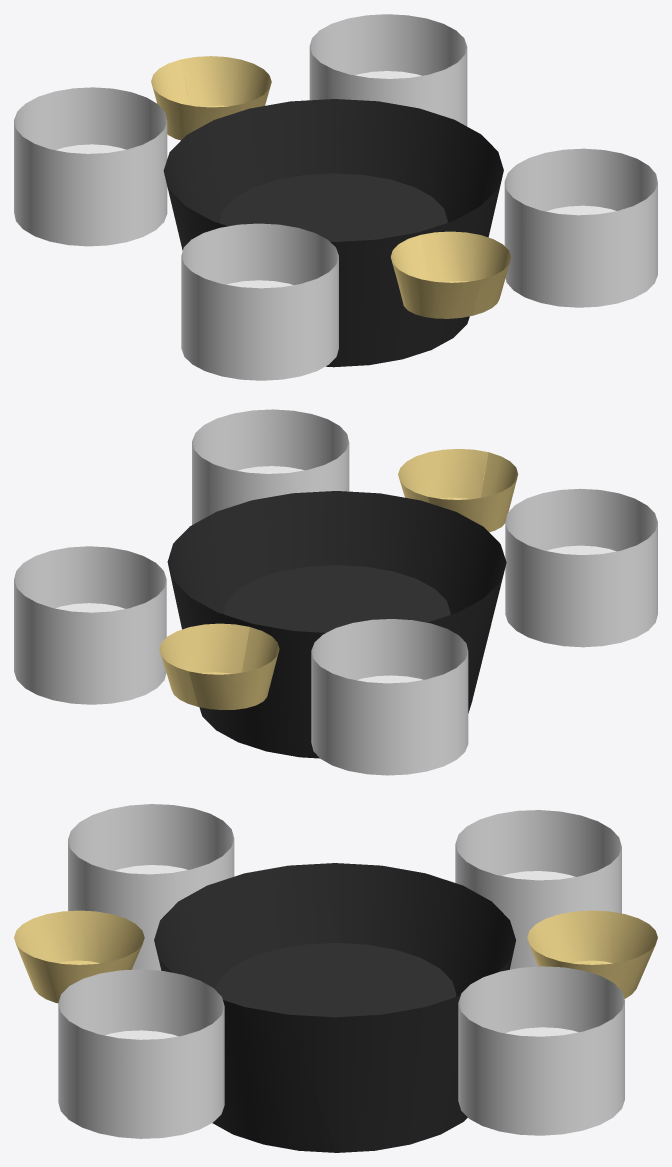
The model's file is DinoTO.glb.
3 renders of one model, top to bottom at view 1: azimuth 30°, elevation 25°; view 2: azimuth 150°, elevation 25°; view 3: azimuth 270°, elevation 25°, orthographic. The views are drawn at different scales.
Visible parts, largest first — view 1: Group_001.001, Group_001.004, Group_001.003, Group_001.002; view 2: Group_001.001, Group_001.003, Group_001.004, Group_001.002; view 3: Group_001.001, Group_001.003, Group_001.004, Group_001.002.
Part boxes in pixels (x1,y1,x2,y2): Group_001.001: [163, 99, 503, 367]; Group_001.004: [14, 87, 657, 307]; Group_001.003: [181, 14, 467, 380]; Group_001.002: [151, 56, 511, 318]; Group_001.001: [167, 491, 506, 758]; Group_001.003: [14, 488, 657, 704]; Group_001.004: [192, 409, 468, 775]; Group_001.002: [159, 449, 518, 709]; Group_001.001: [154, 863, 515, 1152]; Group_001.003: [68, 804, 624, 1135]; Group_001.004: [58, 810, 621, 1138]; Group_001.002: [14, 910, 657, 1003].
Size of the model in its own units: 1.88 by 0.621 by 2.17.
